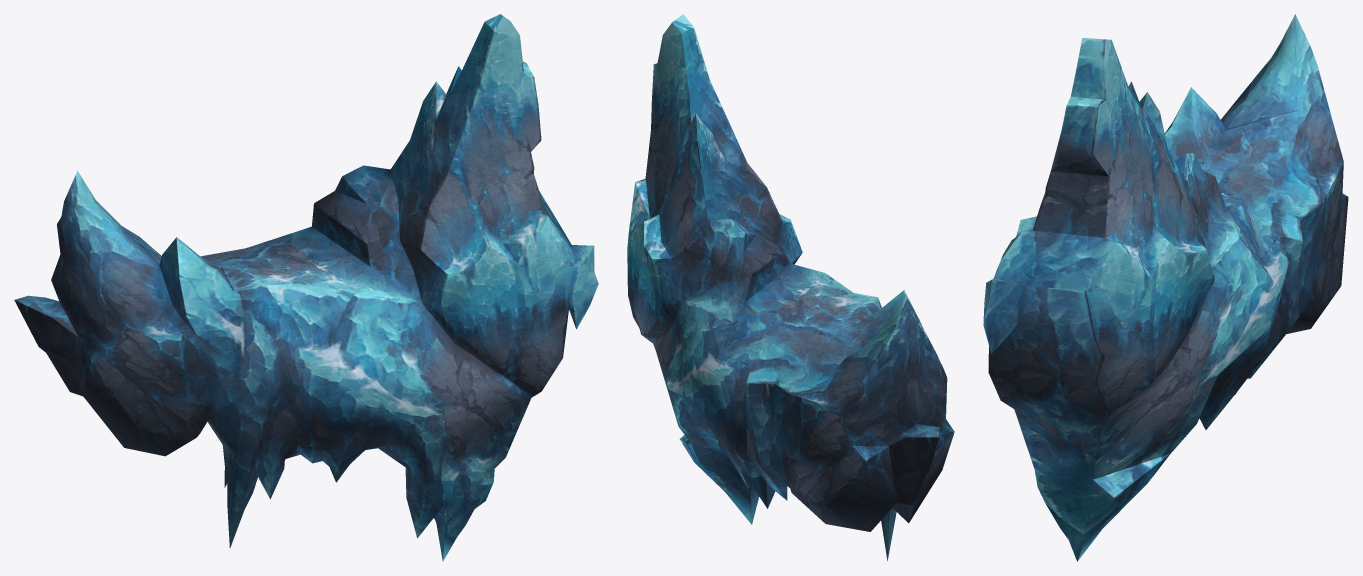
The model's file is bs_binshan_8.FBX.
The picture shows the model from 3 angles, left to right: view 1: azimuth 30°, elevation 25°; view 2: azimuth 150°, elevation 25°; view 3: azimuth 270°, elevation 25°; orthographic projection. The views are drawn at different scales.
Visible parts, largest first — view 1: bs_binshan_8; view 2: bs_binshan_8; view 3: bs_binshan_8.
Part boxes in pixels (x1,y1,x2,y2): bs_binshan_8: [14, 14, 598, 561]; bs_binshan_8: [627, 14, 954, 560]; bs_binshan_8: [983, 14, 1348, 561].
Size of the model in its own units: 5761 by 6607 by 3897.
